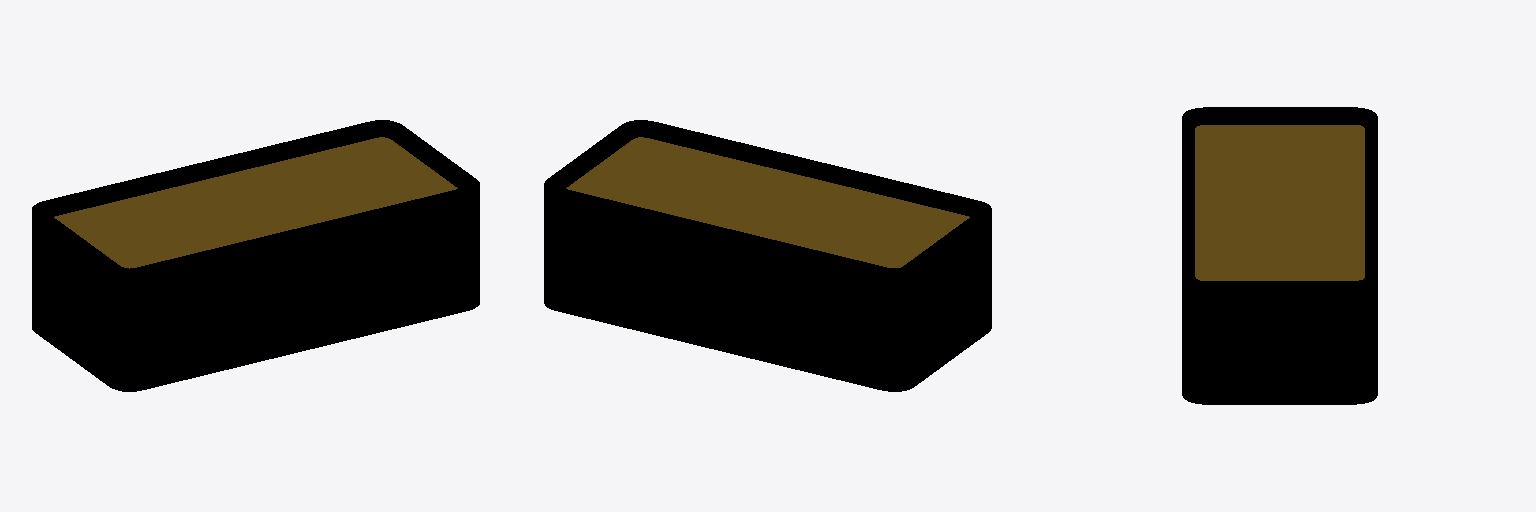
Rendered from USD.obj.
3 renders of one model, left to right at view 1: azimuth 30°, elevation 25°; view 2: azimuth 150°, elevation 25°; view 3: azimuth 270°, elevation 25°, orthographic.
Visible parts, largest first — view 1: rect19, rect19_1; view 2: rect19, rect19_1; view 3: rect19, rect19_1.
Boxes of the visible parts, <box> form: rect19: <box>32,120,479,391</box>; rect19_1: <box>54,137,457,268</box>; rect19: <box>544,120,991,391</box>; rect19_1: <box>566,137,969,267</box>; rect19: <box>1182,107,1377,404</box>; rect19_1: <box>1195,125,1364,280</box>.
Bounding box in the file's own units: 0.0193 × 0.0059 × 0.0089.